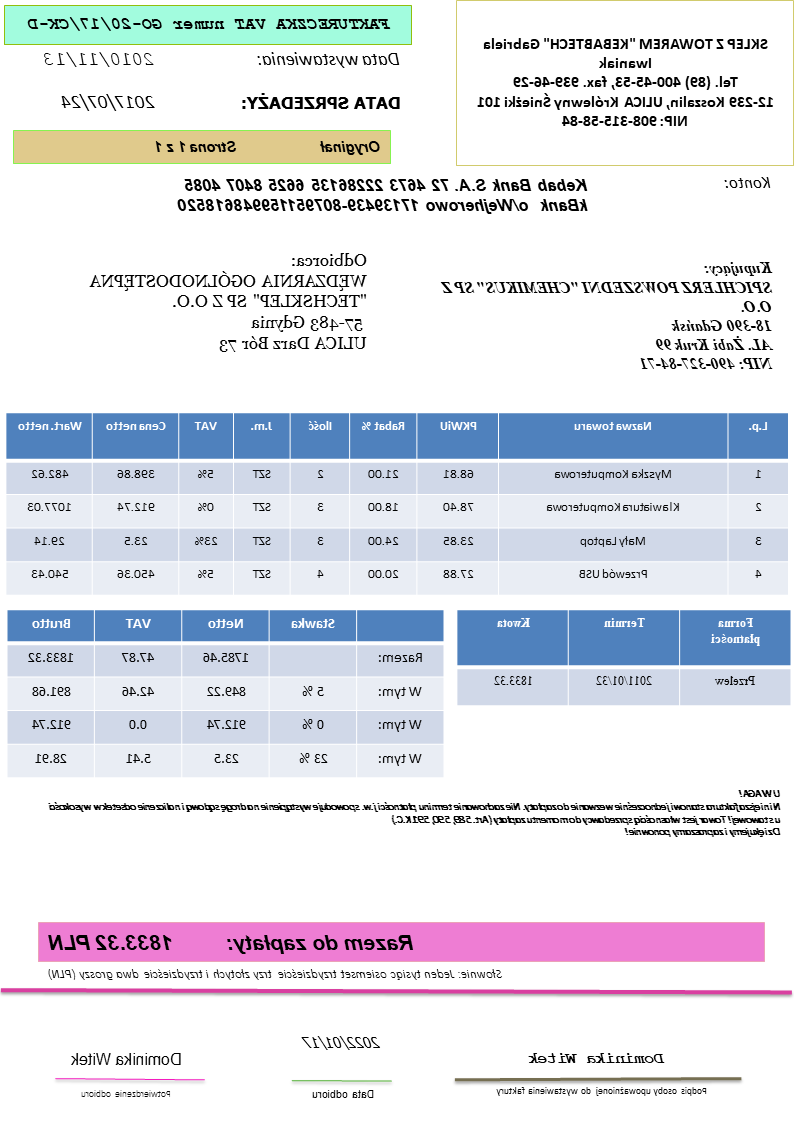Table: (4, 408, 792, 596), (6, 608, 447, 779), (458, 608, 792, 707)
TextBox: (48, 784, 785, 841), (437, 258, 775, 376), (85, 246, 370, 360), (472, 30, 776, 133), (174, 172, 592, 219), (44, 929, 419, 956), (43, 964, 505, 982), (20, 13, 395, 32), (152, 136, 385, 159), (239, 90, 404, 113), (256, 46, 402, 70), (494, 1083, 711, 1099), (524, 1049, 669, 1068), (66, 1047, 185, 1069), (42, 47, 155, 68), (61, 90, 158, 114), (295, 1029, 382, 1054), (79, 1085, 173, 1104), (719, 170, 776, 195), (310, 1086, 380, 1103)
